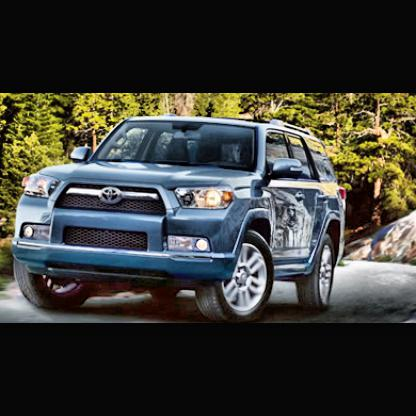Toyota 4Runner SUV 2012: (13, 115, 347, 323)
